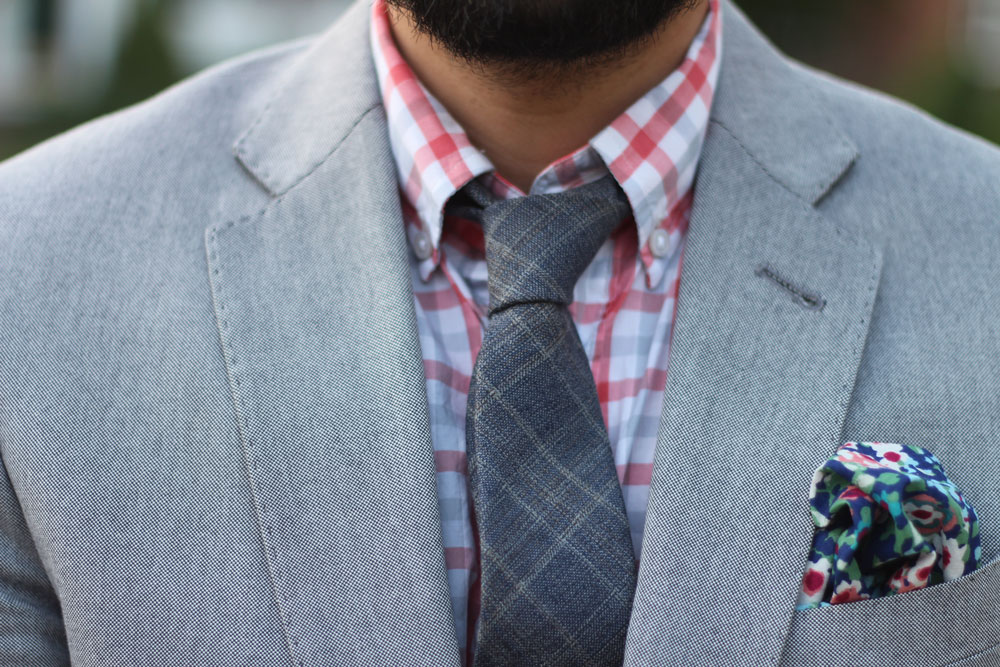tie: (443, 174, 665, 657)
